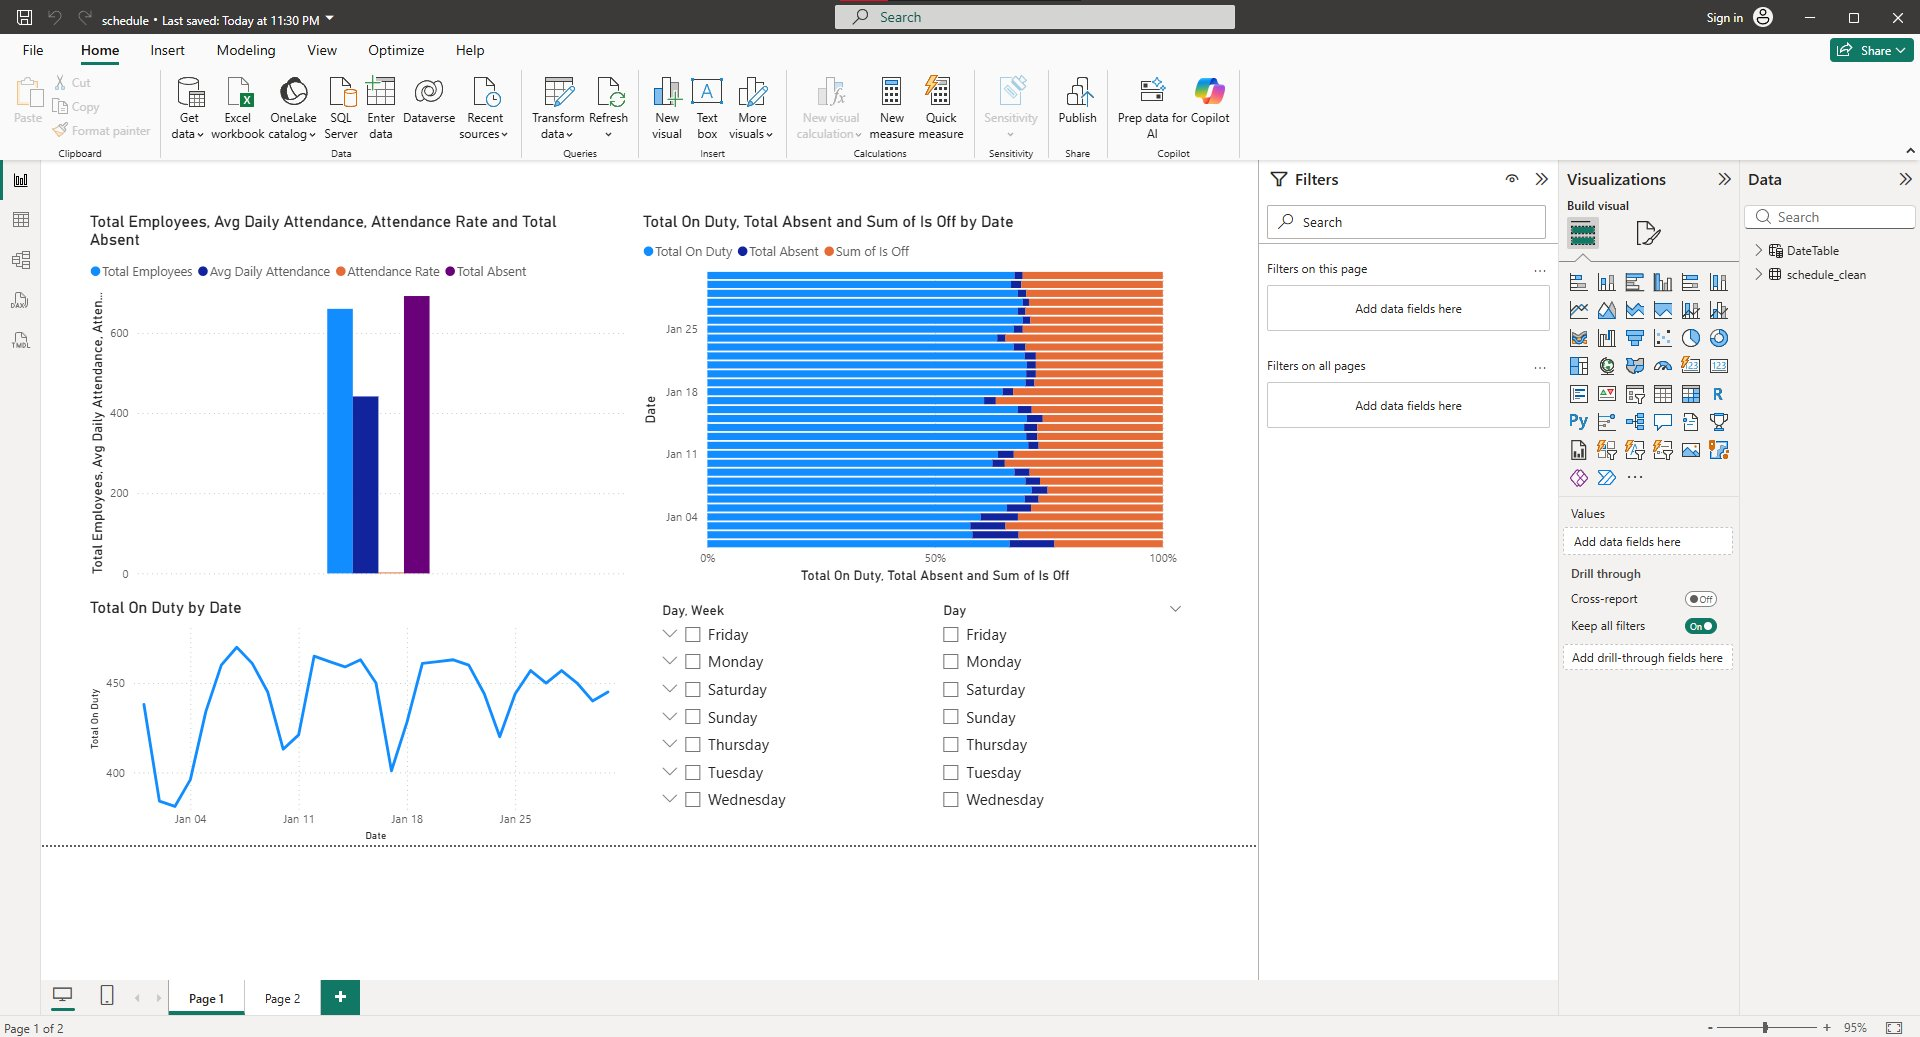

Layout of this report page (visuals, bound fields, positions):
{"tool":"powerbi","page":{"name":"Page 1","canvas":[1280,720],"ordinal":0},"visuals":[{"type":"clusteredColumnChart","fields":{"Y":["DateTable.Total Employees","schedule_clean.Avg Daily Attendance","schedule_clean.Attendance Rate","schedule_clean.Total Absent"]},"box":[46.3,54.7,572.2,394.4],"z":0},{"type":"lineChart","fields":{"Category":["schedule_clean.Date"],"Y":["schedule_clean.Total On Duty"]},"box":[46,460.4,572.1,260.1],"z":1000},{"type":"hundredPercentStackedBarChart","fields":{"Y":["schedule_clean.Total On Duty","schedule_clean.Total Absent","Sum(schedule_clean.Is Off)"],"Category":["schedule_clean.Date"]},"box":[628,55,572,395],"z":2000},{"type":"slicer","fields":{"Values":["schedule_clean.Day","schedule_clean.Week"]},"box":[640,460.4,572.1,260.1],"z":3000},{"type":"slicer","fields":{"Values":["schedule_clean.Day"]},"box":[935.8,460.4,276.3,260.1],"z":4000}]}

Visuals, with their boxes on the page's 1280x720 design canvas (x1, y1, x2, y2). These are canvas units, not pixel positions in the 1920x1037 screenshot, which may show the page scaled, cropped or inside an application window:
clusteredColumnChart - DateTable.Total Employees x schedule_clean.Avg Daily Attendance: detection(46, 55, 618, 449)
lineChart - schedule_clean.Date x schedule_clean.Total On Duty: detection(46, 460, 618, 720)
hundredPercentStackedBarChart - schedule_clean.Total On Duty x schedule_clean.Total Absent: detection(628, 55, 1200, 450)
slicer - schedule_clean.Day x schedule_clean.Week: detection(640, 460, 1212, 720)
slicer - schedule_clean.Day: detection(936, 460, 1212, 720)
